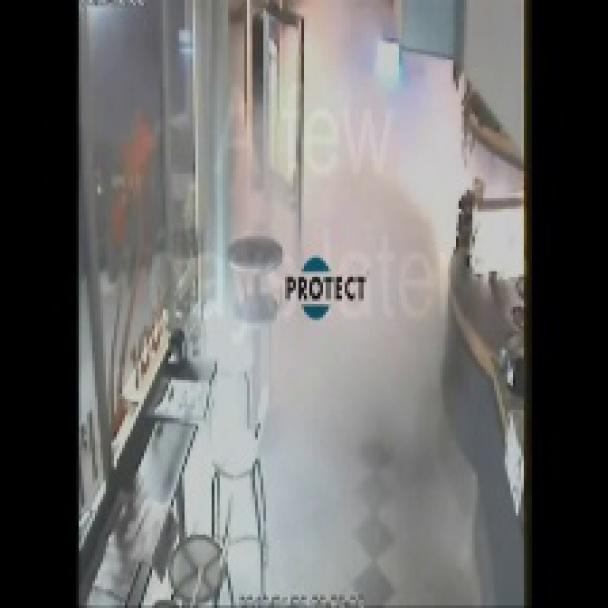smoke: (214, 51, 458, 464)
